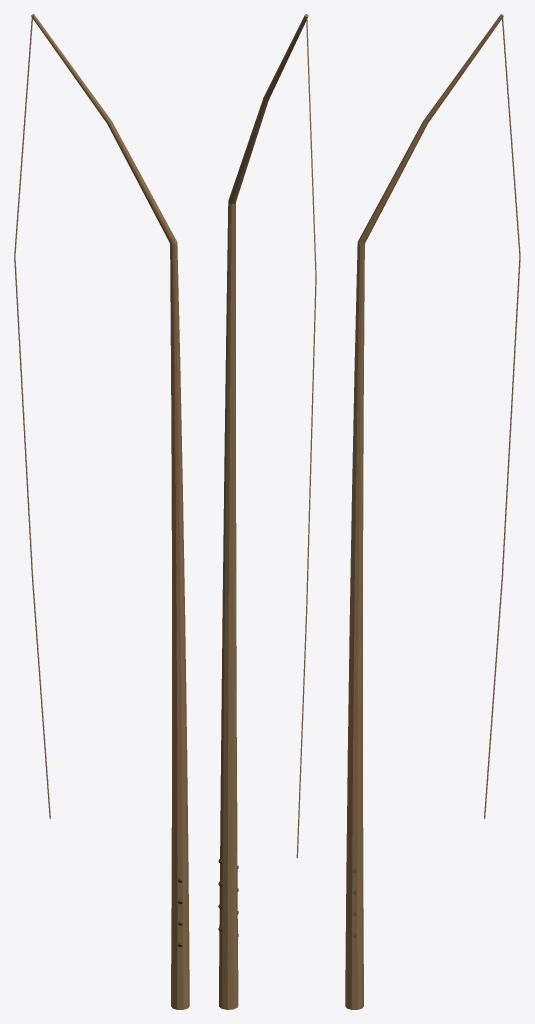
Rendered from PR_FishingRod.glb.
The picture shows the model from 3 angles, left to right: view 1: azimuth 90°, elevation 25°; view 2: azimuth 210°, elevation 25°; view 3: azimuth 270°, elevation 25°; orthographic projection. The views are drawn at different scales.
Visible parts, largest first — view 1: PR_FishingRod; view 2: PR_FishingRod; view 3: PR_FishingRod.
Part boxes in pixels (left/top/right/bottom): PR_FishingRod: left=14, top=14, right=189, bottom=1009; PR_FishingRod: left=218, top=14, right=316, bottom=1009; PR_FishingRod: left=345, top=14, right=520, bottom=1009.
Bounding box in the file's own units: 0.036 × 1.85 × 0.2972.
Materials: 3 (1 with a texture image).
